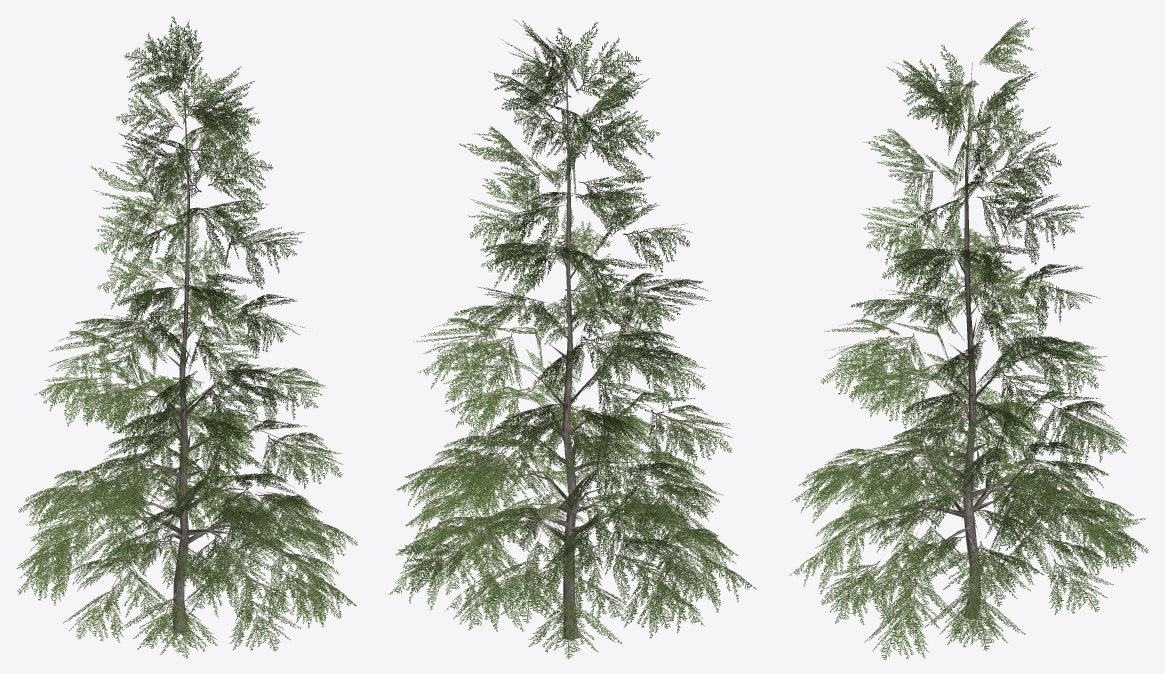
Rendered from fir-far.glb.
3 renders of one model, left to right at view 1: azimuth 30°, elevation 25°; view 2: azimuth 150°, elevation 25°; view 3: azimuth 270°, elevation 25°, orthographic. The views are drawn at different scales.
Visible parts, largest first — view 1: Tree_1, Tree_0; view 2: Tree_1, Tree_0; view 3: Tree_1, Tree_0.
Boxes of the visible parts, x1=… form: Tree_1: x1=16, y1=16, x2=357, y2=658; Tree_0: x1=71, y1=90, x2=301, y2=633; Tree_1: x1=389, y1=19, x2=756, y2=658; Tree_0: x1=456, y1=59, x2=693, y2=640; Tree_1: x1=789, y1=18, x2=1148, y2=659; Tree_0: x1=847, y1=62, x2=1085, y2=619.
Bounding box in the file's own units: 2.39 × 4.39 × 2.37.
Materials: 2 (2 with a texture image).
